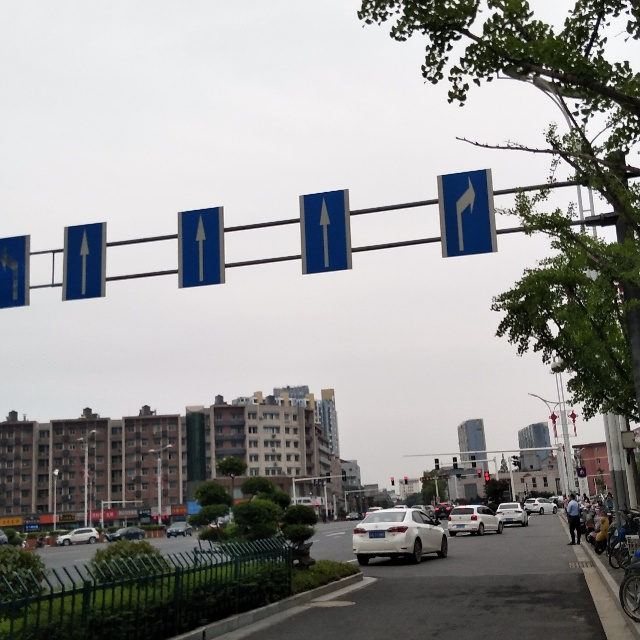left: (1, 240, 29, 307)
right: (442, 172, 493, 262)
straight: (299, 194, 351, 275), (181, 206, 222, 289), (66, 226, 102, 300)
